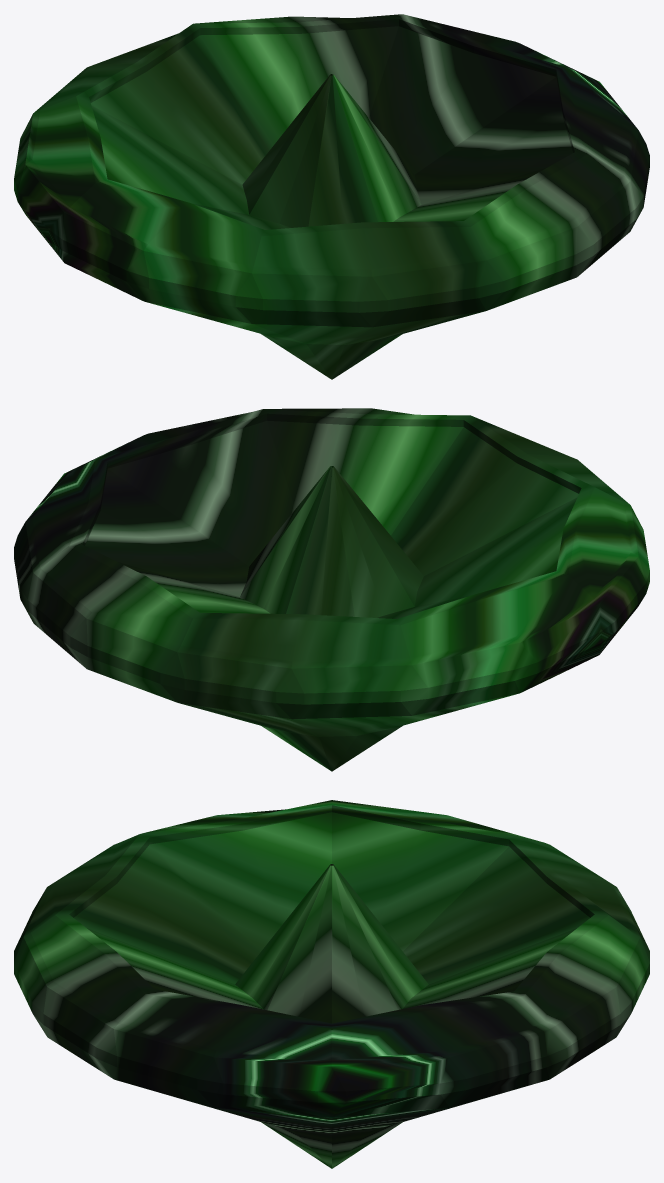
File: bayblade2.fbx
3 renders of one model, top to bottom at view 1: azimuth 30°, elevation 25°; view 2: azimuth 150°, elevation 25°; view 3: azimuth 270°, elevation 25°, orthographic.
Visible parts, largest first — view 1: Circle; view 2: Circle; view 3: Circle.
Boxes of the visible parts, x1,y1,x2,y2 form: Circle: [14, 14, 649, 379]; Circle: [14, 408, 649, 771]; Circle: [14, 800, 649, 1168].
Bounding box in the file's own units: 198 × 105 × 198.
